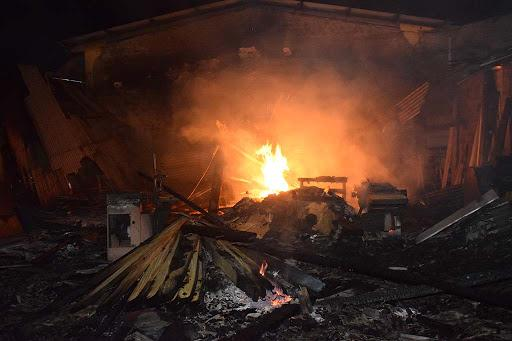fire: (260, 155, 291, 193)
